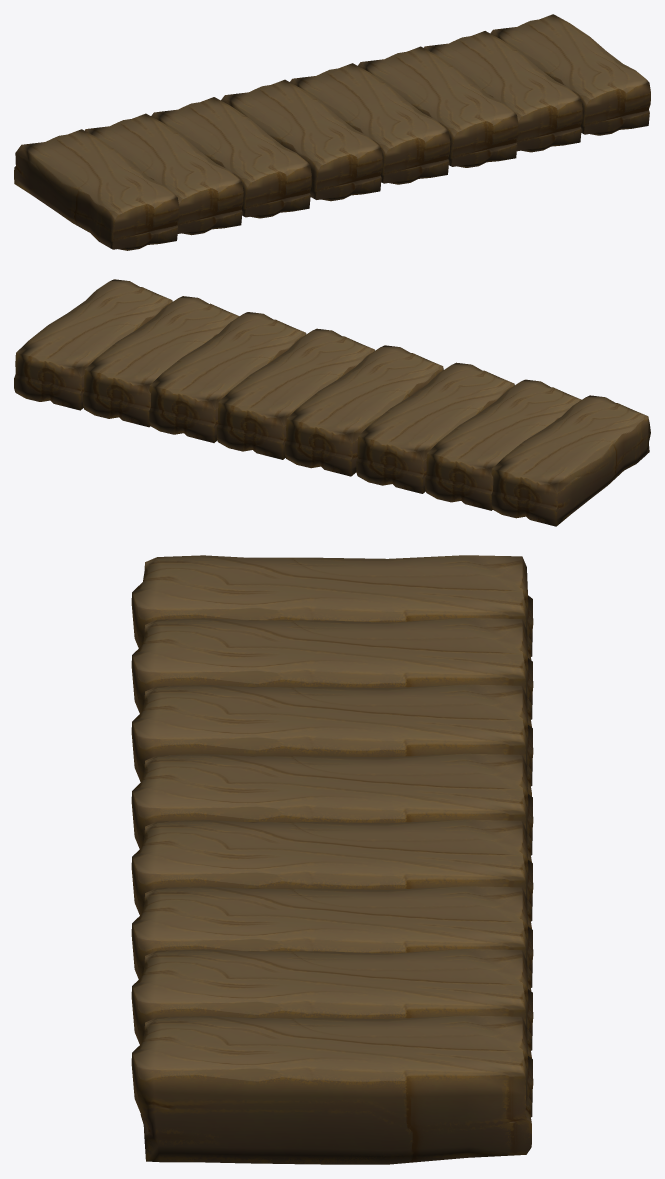
File: LucioCampos_woodplank.fbx
The picture shows the model from 3 angles, top to bottom: view 1: azimuth 30°, elevation 25°; view 2: azimuth 150°, elevation 25°; view 3: azimuth 270°, elevation 25°; orthographic projection. The views are drawn at different scales.
Visible parts, largest first — view 1: woodplanks2; view 2: woodplanks2; view 3: woodplanks2.
Part boxes in pixels (bbox=[...]): woodplanks2: bbox=[14, 14, 650, 250]; woodplanks2: bbox=[14, 279, 650, 526]; woodplanks2: bbox=[131, 555, 533, 1164].
Size of the model in its own units: 6.13 by 0.5215 by 1.97.
